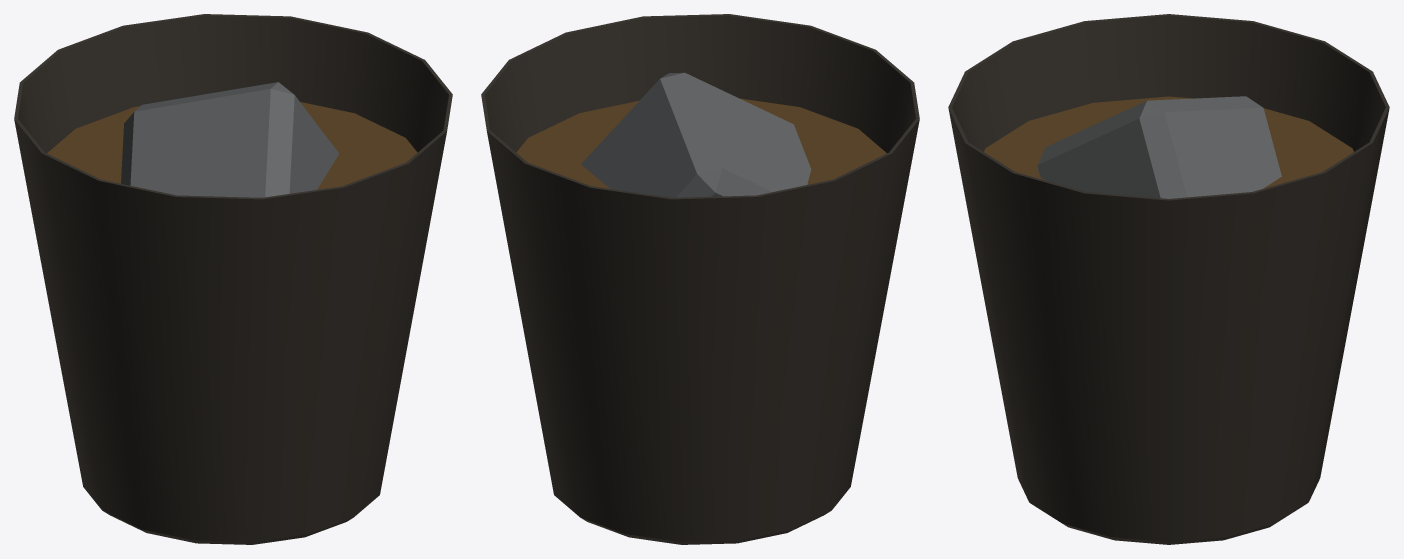
File: BgMD_Glass01.fbx
The picture shows the model from 3 angles, left to right: view 1: azimuth 30°, elevation 25°; view 2: azimuth 150°, elevation 25°; view 3: azimuth 270°, elevation 25°; orthographic projection.
Parts seen in each view (by area): view 1: BgMD_Grass_02, pCube1, polySurface3; view 2: BgMD_Grass_02, pCube1, polySurface3; view 3: BgMD_Grass_02, pCube1, polySurface3.
Part boxes in pixels (x1,y1,x2,y2): BgMD_Grass_02: (14, 14, 452, 544); pCube1: (121, 82, 339, 197); polySurface3: (47, 102, 417, 189); BgMD_Grass_02: (481, 14, 919, 544); pCube1: (581, 72, 811, 197); polySurface3: (516, 98, 886, 188); BgMD_Grass_02: (948, 14, 1389, 544); pCube1: (1037, 96, 1281, 198); polySurface3: (984, 96, 1353, 188).
Bounding box in the file's own units: 0.1016 × 0.1008 × 0.1016.
